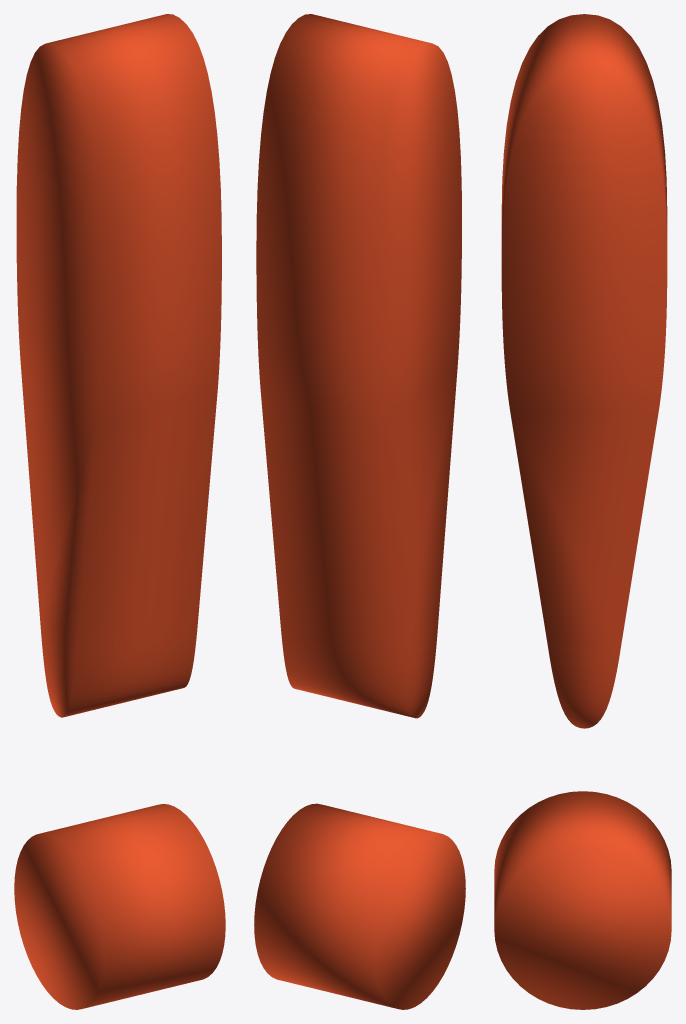
Rendered from UppRop.fbx.
3 views of the same model, side by side, from view 1: azimuth 30°, elevation 25°; view 2: azimuth 150°, elevation 25°; view 3: azimuth 270°, elevation 25° (orthographic).
Visible parts, largest first — view 1: Text; view 2: Text; view 3: Text.
Boxes of the visible parts, <box> form: Text: <box>14,14,225,1009</box>; Text: <box>254,14,465,1009</box>; Text: <box>494,14,671,1009</box>.
Bounding box in the file's own units: 27.52 × 35.57 × 207.
